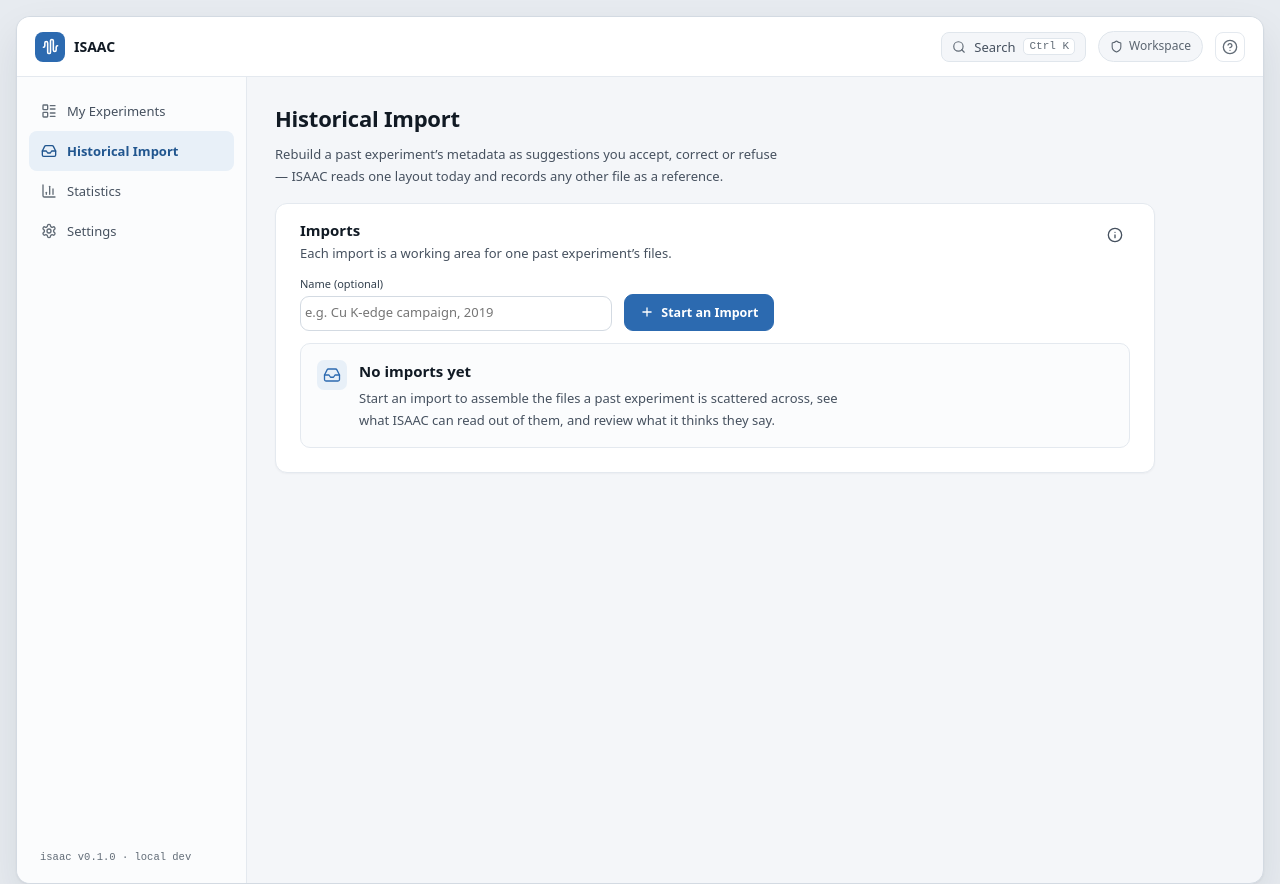
Test: §1 · the file picker exists and cannot send a byte › renders a file input — the affordance the owner asked for is present
The width and height of the screenshot is (1280, 884).
Click the button "Start an Import". click: click(699, 312)
box: x1=624 y1=294 x2=774 y2=331
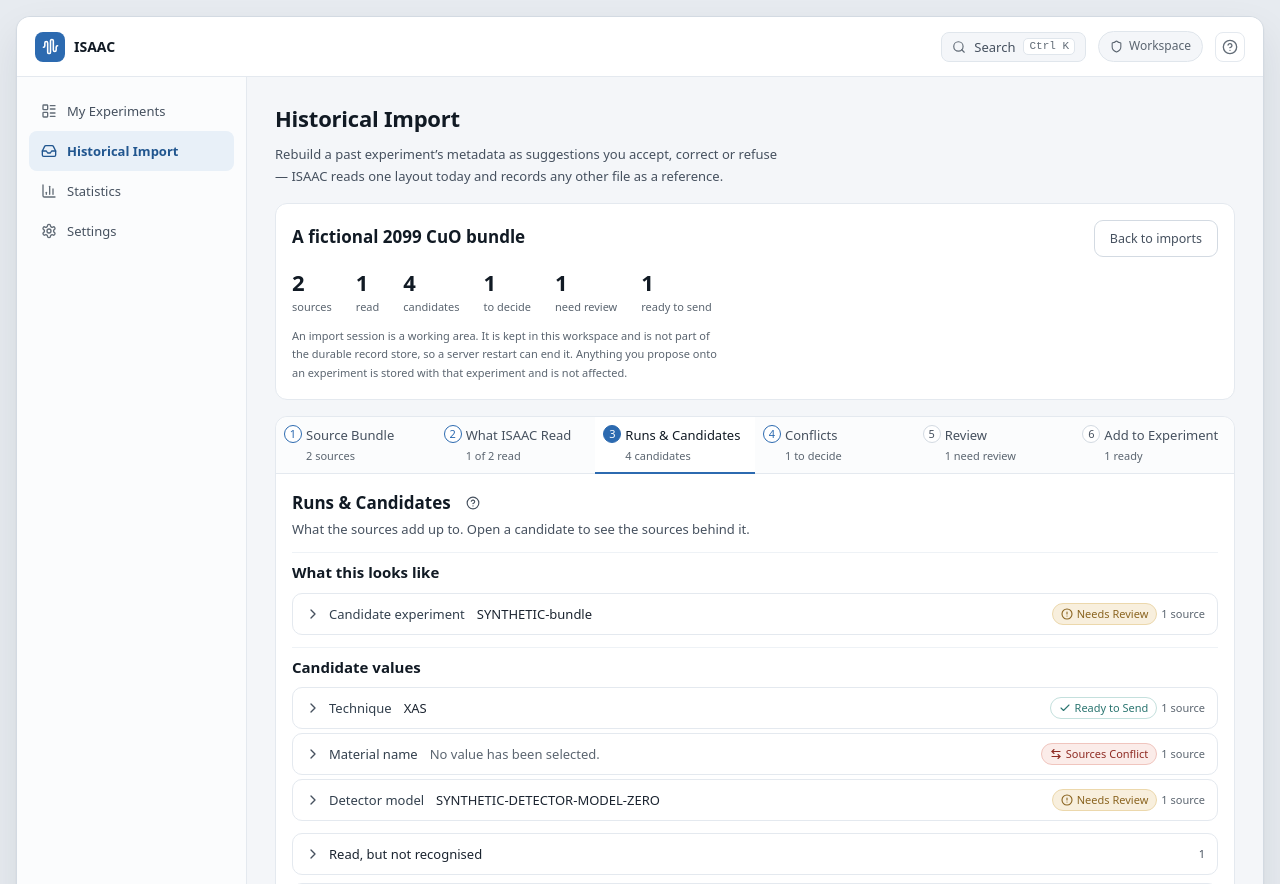
Result: the element named "Import stages" is shown at x1=276 y1=417 x2=1234 y2=474
